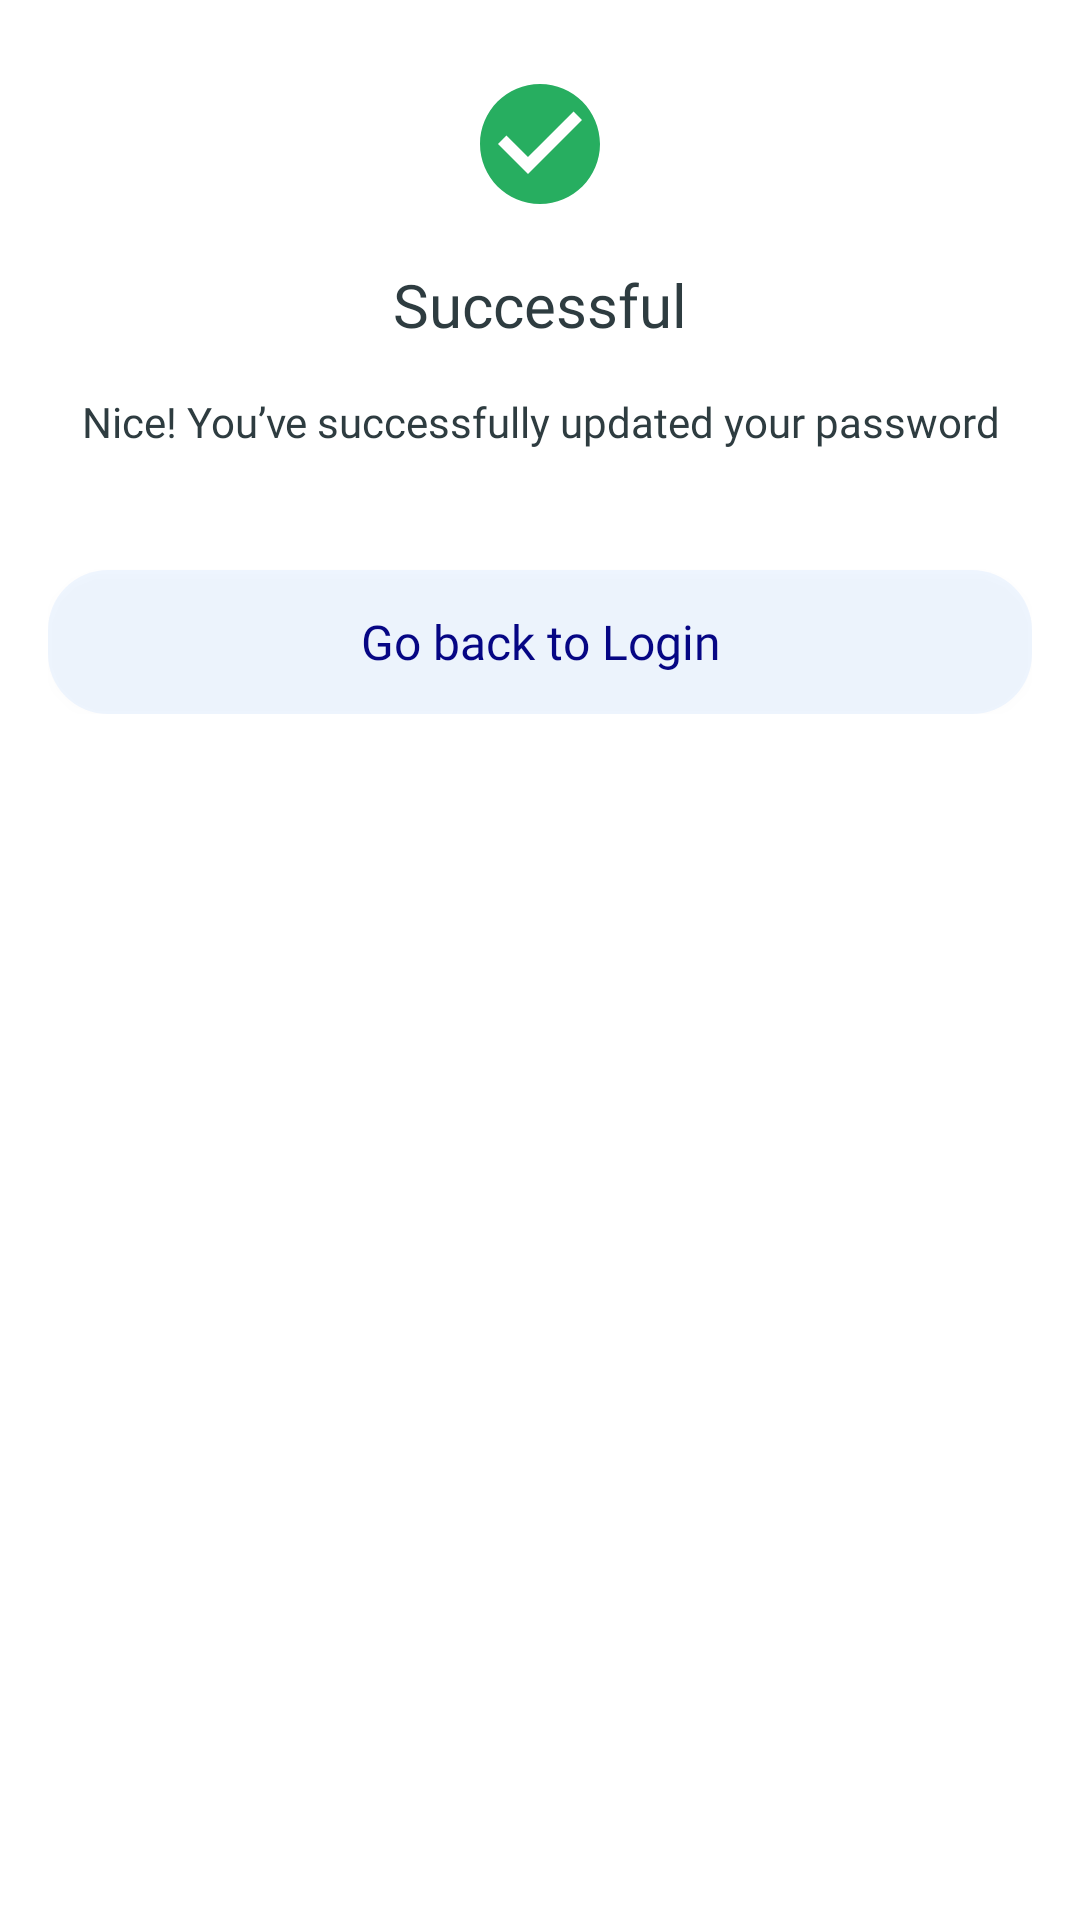

Named icons in this screenshot (1080px×1920px) and their bounding boxes, (x1, y1, x2, y2):
check circle: (480, 84, 600, 204)
